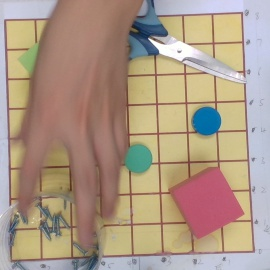blue: (191, 106, 222, 137)
green: (124, 144, 154, 173)
